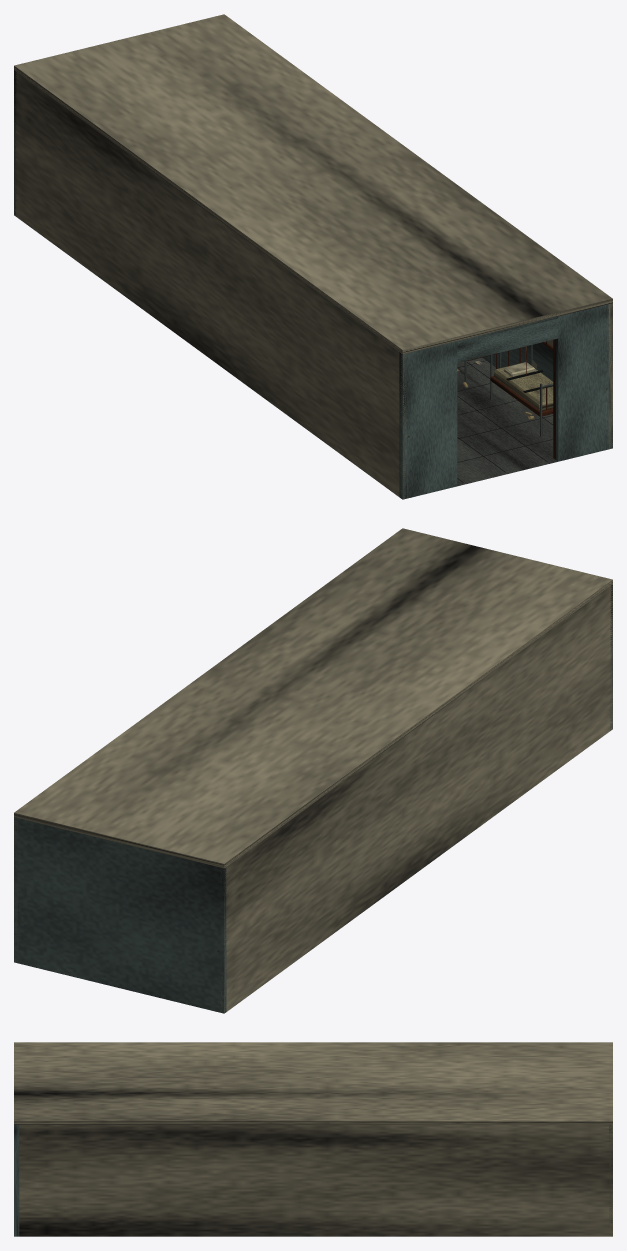
The model's file is infirmary.glb.
The picture shows the model from 3 angles, top to bottom: view 1: azimuth 30°, elevation 25°; view 2: azimuth 150°, elevation 25°; view 3: azimuth 270°, elevation 25°; orthographic projection. The views are drawn at different scales.
Parts seen in each view (by area): view 1: static-plaster, static-paint, static-stone, static-cloth, static-rust, static-dark; view 2: static-plaster, static-paint; view 3: static-plaster, static-paint.
Part boxes in pixels (box(x1,y1,x2,y2)): static-plaster: box(14, 14, 612, 499); static-paint: box(14, 70, 612, 499); static-stone: box(457, 357, 557, 486); static-cloth: box(494, 362, 553, 410); static-rust: box(407, 339, 607, 459); static-dark: box(457, 360, 552, 482); static-plaster: box(14, 528, 612, 1013); static-paint: box(14, 584, 612, 1013); static-plaster: box(14, 1042, 612, 1236); static-paint: box(14, 1124, 612, 1236).
Size of the model in its own units: 5 by 3.4 by 16.
Materials: 14 (10 with a texture image).
